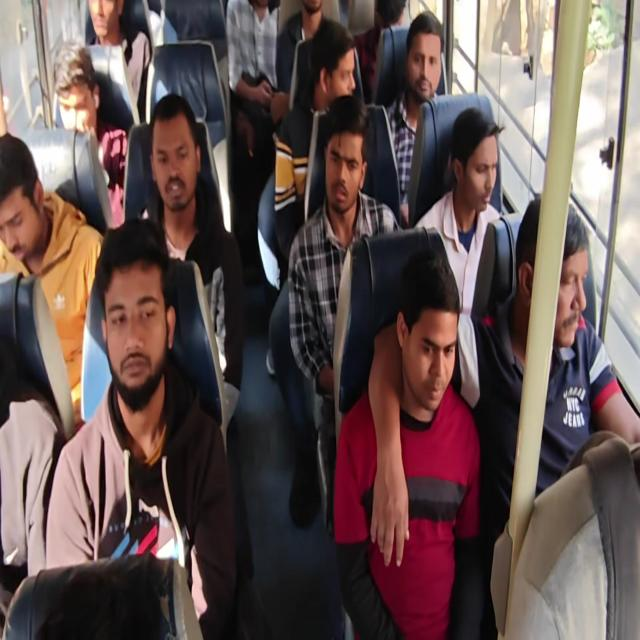person: (101, 236, 167, 404), (395, 270, 456, 408), (532, 219, 588, 343), (147, 110, 199, 217), (50, 51, 101, 158), (0, 128, 40, 262), (316, 113, 367, 218), (313, 26, 360, 114), (452, 119, 496, 212), (404, 23, 450, 98), (84, 0, 123, 38), (293, 0, 340, 24)
